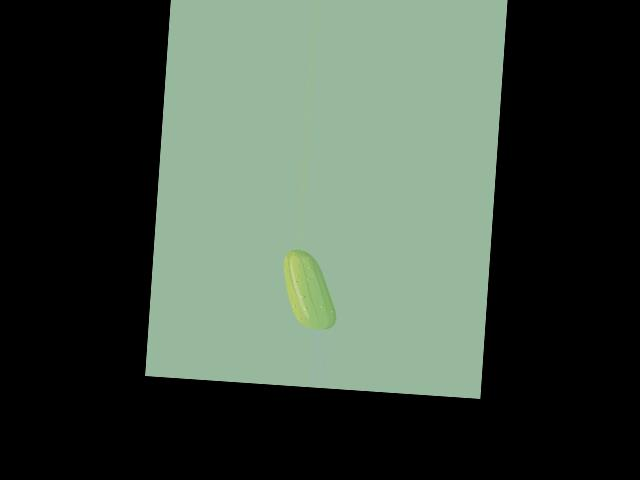cucumber: (279, 249, 340, 330)
